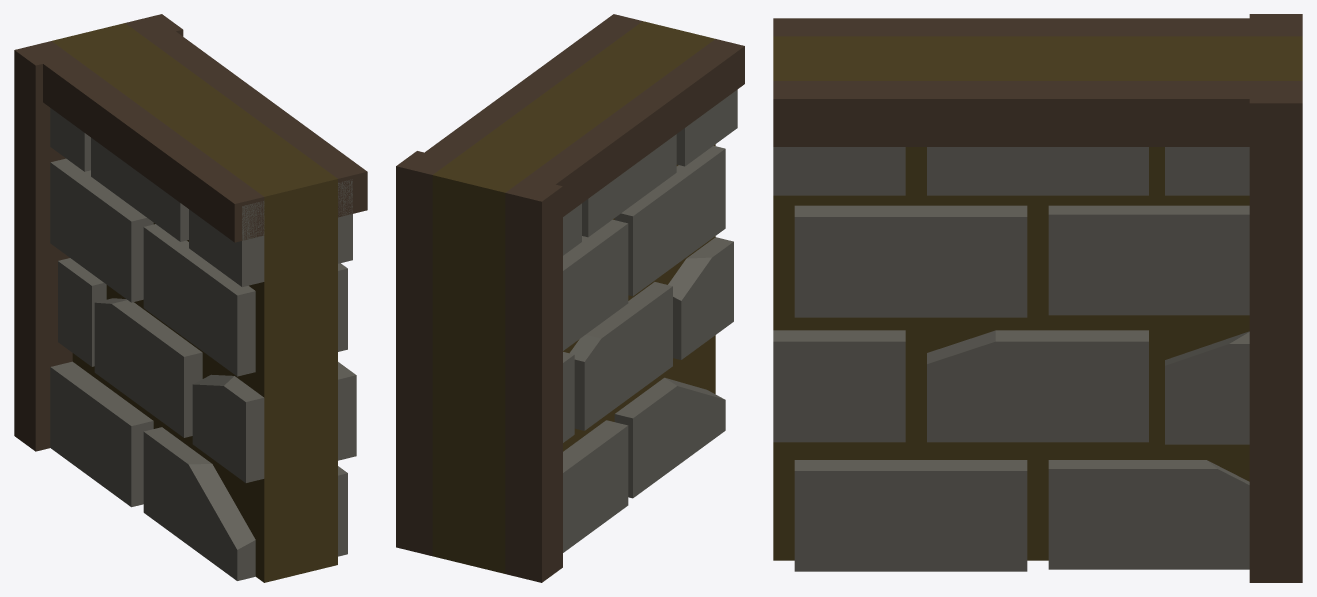
Rendered from A_BrickWall11.fbx.
The picture shows the model from 3 angles, left to right: view 1: azimuth 30°, elevation 25°; view 2: azimuth 150°, elevation 25°; view 3: azimuth 270°, elevation 25°; orthographic projection. The views are drawn at different scales.
Visible parts, largest first — view 1: A_BrickWall11; view 2: A_BrickWall11; view 3: A_BrickWall11.
Part boxes in pixels (left/top/right/bottom): A_BrickWall11: left=14, top=14, right=367, bottom=582; A_BrickWall11: left=396, top=14, right=744, bottom=582; A_BrickWall11: left=773, top=14, right=1302, bottom=582.
Size of the model in its own units: 40 by 100 by 100.
